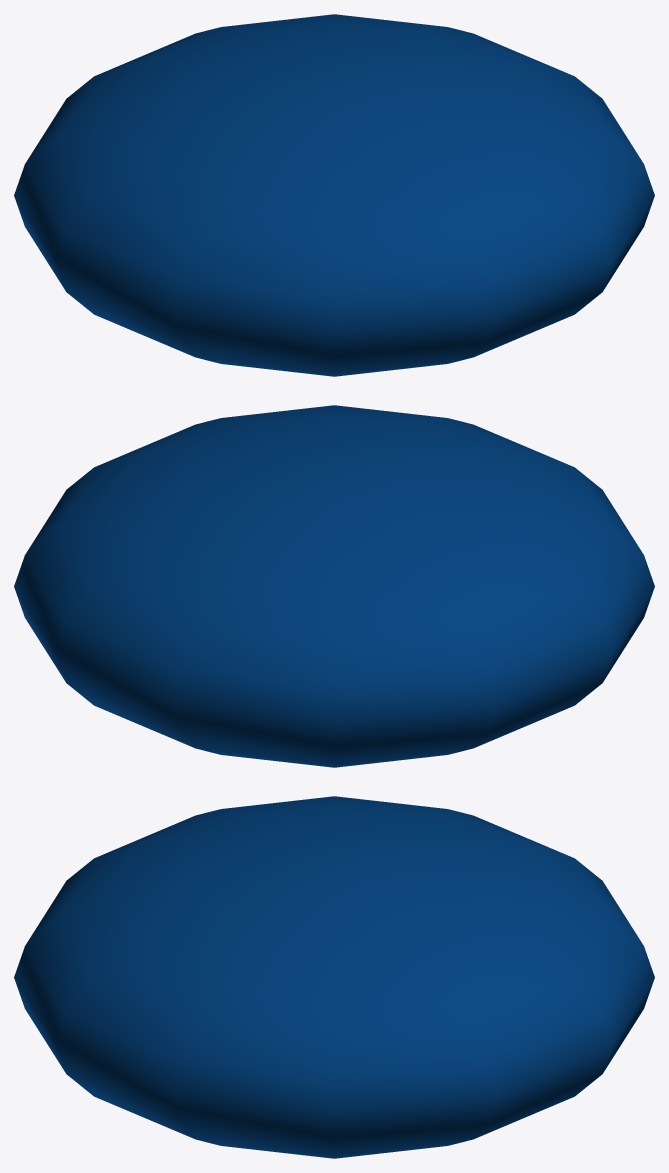
File: Logic_C_Ball_05.fbx
The picture shows the model from 3 angles, top to bottom: view 1: azimuth 30°, elevation 25°; view 2: azimuth 150°, elevation 25°; view 3: azimuth 270°, elevation 25°; orthographic projection.
Visible parts, largest first — view 1: Logic_C_Ball_05; view 2: Logic_C_Ball_05; view 3: Logic_C_Ball_05.
Boxes of the visible parts, x1,y1,x2,y2 form: Logic_C_Ball_05: [14, 14, 654, 376]; Logic_C_Ball_05: [14, 405, 654, 767]; Logic_C_Ball_05: [14, 796, 654, 1158].
Bounding box in the file's own units: 7.93 × 3.3 × 7.93.
